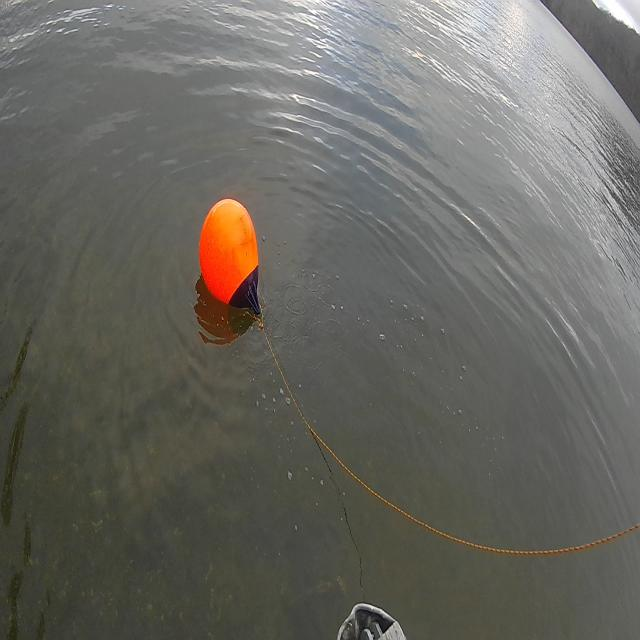Buoy: (192, 183, 274, 346)
